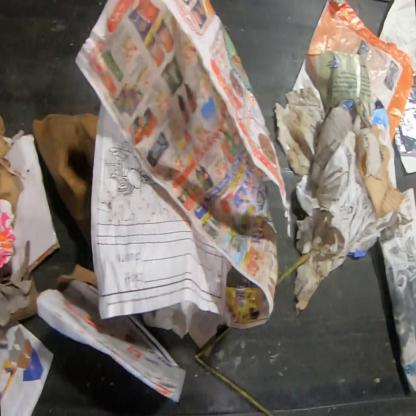cardboard: (32, 113, 101, 251), (356, 125, 405, 220), (0, 115, 21, 220)
soft_plastic: (394, 76, 416, 159)
